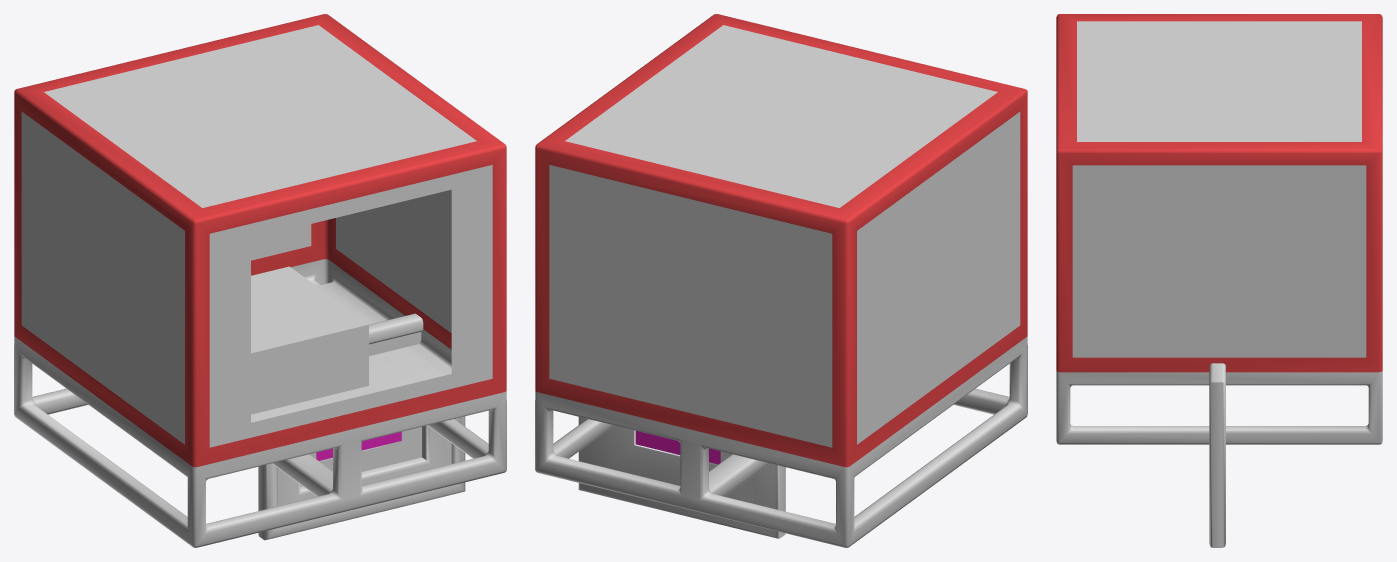
The model's file is S_SourdChamber.fbx.
The picture shows the model from 3 angles, left to right: view 1: azimuth 30°, elevation 25°; view 2: azimuth 150°, elevation 25°; view 3: azimuth 270°, elevation 25°; orthographic projection. The views are drawn at different scales.
Parts seen in each view (by area): view 1: BODY.001, SUPPORT.001, DOOR.001; view 2: BODY.001, DOOR.001; view 3: BODY.001, DOOR.001.
Boxes of the visible parts, box(x1,y1,x2,y2) form: BODY.001: box(14, 14, 506, 547); SUPPORT.001: box(251, 266, 368, 414); DOOR.001: box(258, 313, 465, 540); BODY.001: box(535, 14, 1027, 547); DOOR.001: box(578, 417, 785, 538); BODY.001: box(1056, 14, 1382, 444); DOOR.001: box(1209, 363, 1225, 547).
Bounding box in the file's own units: 56.93 × 64.01 × 50.
